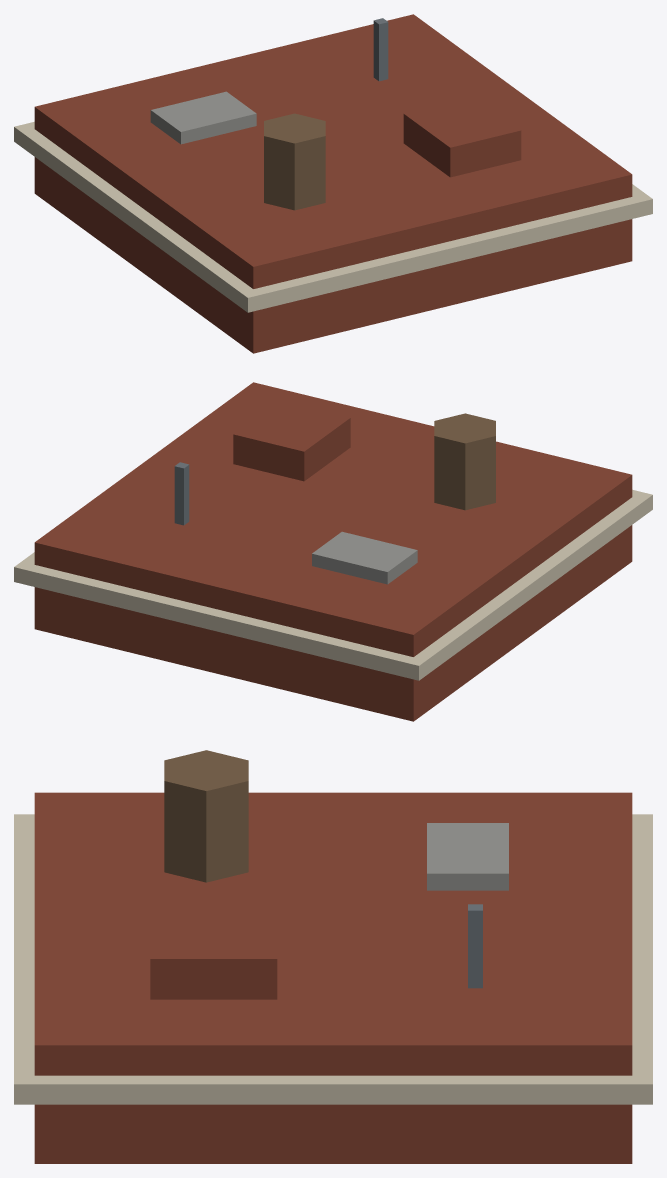
File: tw_brick_16_crown_lod1.glb
3 renders of one model, top to bottom at view 1: azimuth 30°, elevation 25°; view 2: azimuth 150°, elevation 25°; view 3: azimuth 270°, elevation 25°, orthographic. The views are drawn at different scales.
Visible parts, largest first — view 1: tw_brick_16_crown_lod1; view 2: tw_brick_16_crown_lod1; view 3: tw_brick_16_crown_lod1.
Part boxes in pixels (<box>): tw_brick_16_crown_lod1: <box>14,14,652,353</box>; tw_brick_16_crown_lod1: <box>14,382,652,721</box>; tw_brick_16_crown_lod1: <box>14,750,652,1163</box>.
Size of the model in its own units: 17.1 by 6.2 by 17.1.
Materials: 2 (2 with a texture image).
